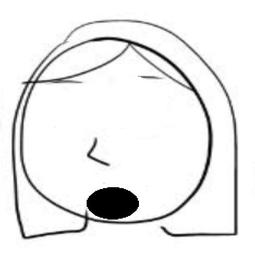eyebrow: (50, 79, 85, 87), (136, 75, 168, 82)
open_mouth: (84, 185, 143, 221)
pointy_nose: (79, 132, 115, 166)
